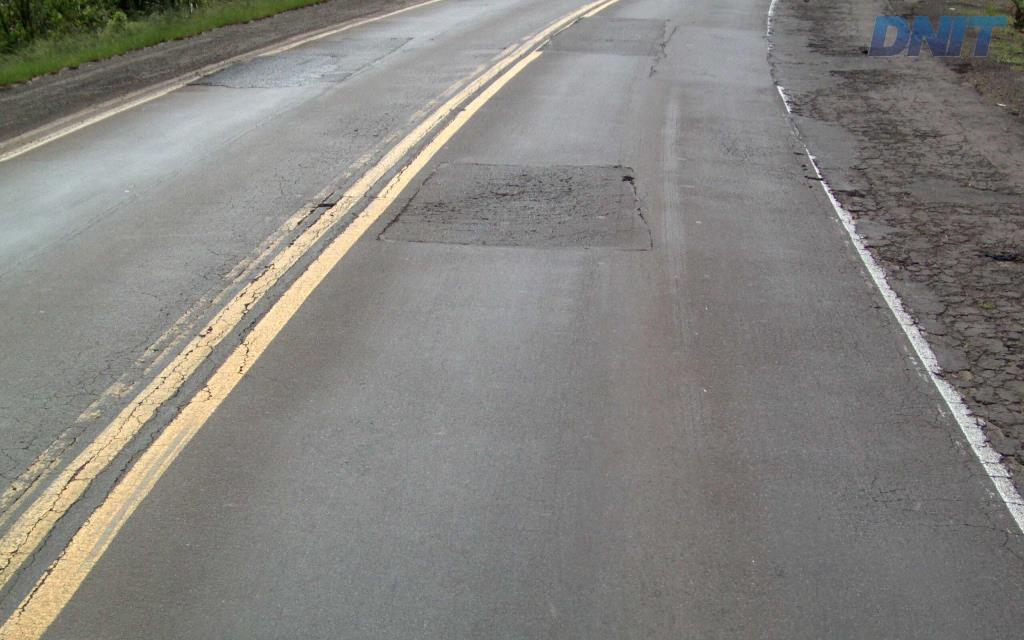crack: (375, 173, 552, 241)
